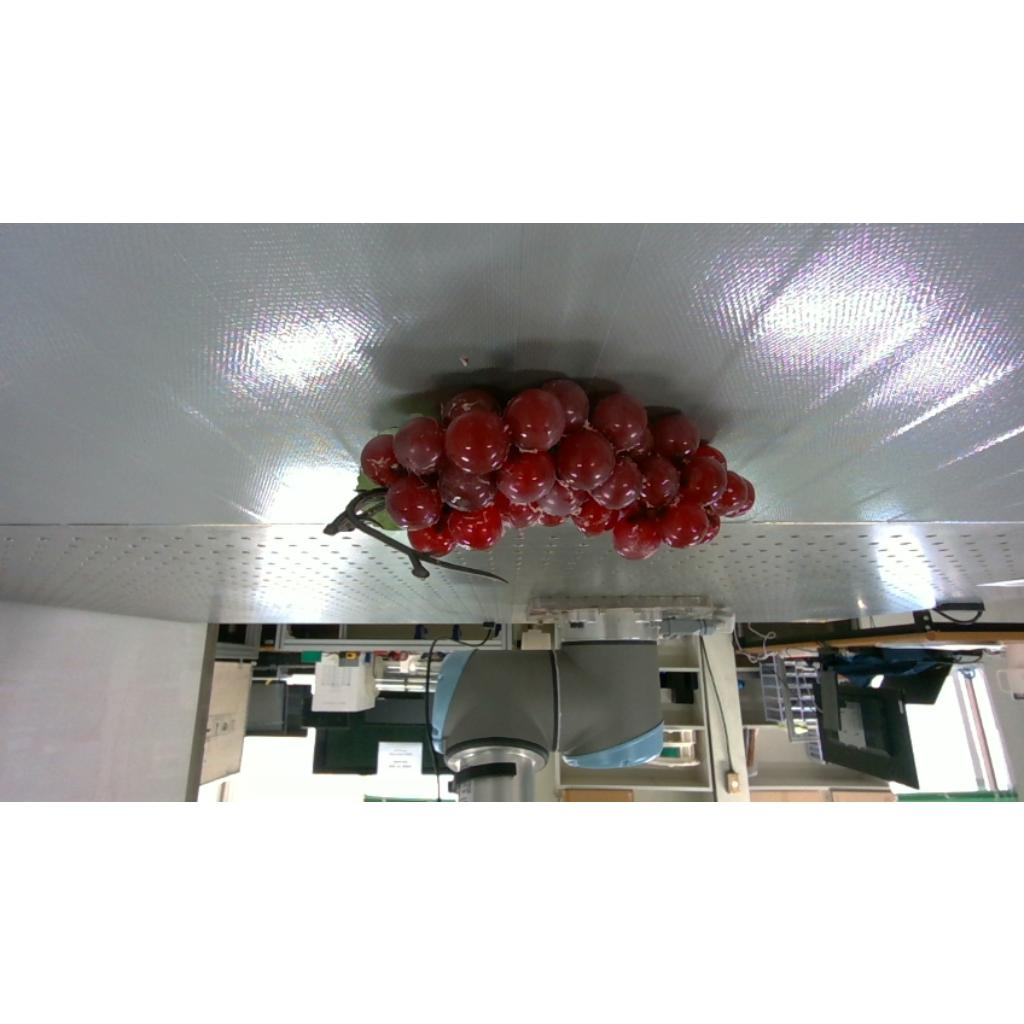grape: (324, 378, 754, 581)
